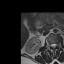CCS_normal: (52, 41, 54, 50)
LFS_stenosis: (56, 41, 58, 47)
LLS_normal: (54, 41, 56, 49)
RFS_normal: (49, 41, 50, 48)
RLS_normal: (50, 41, 52, 49)
